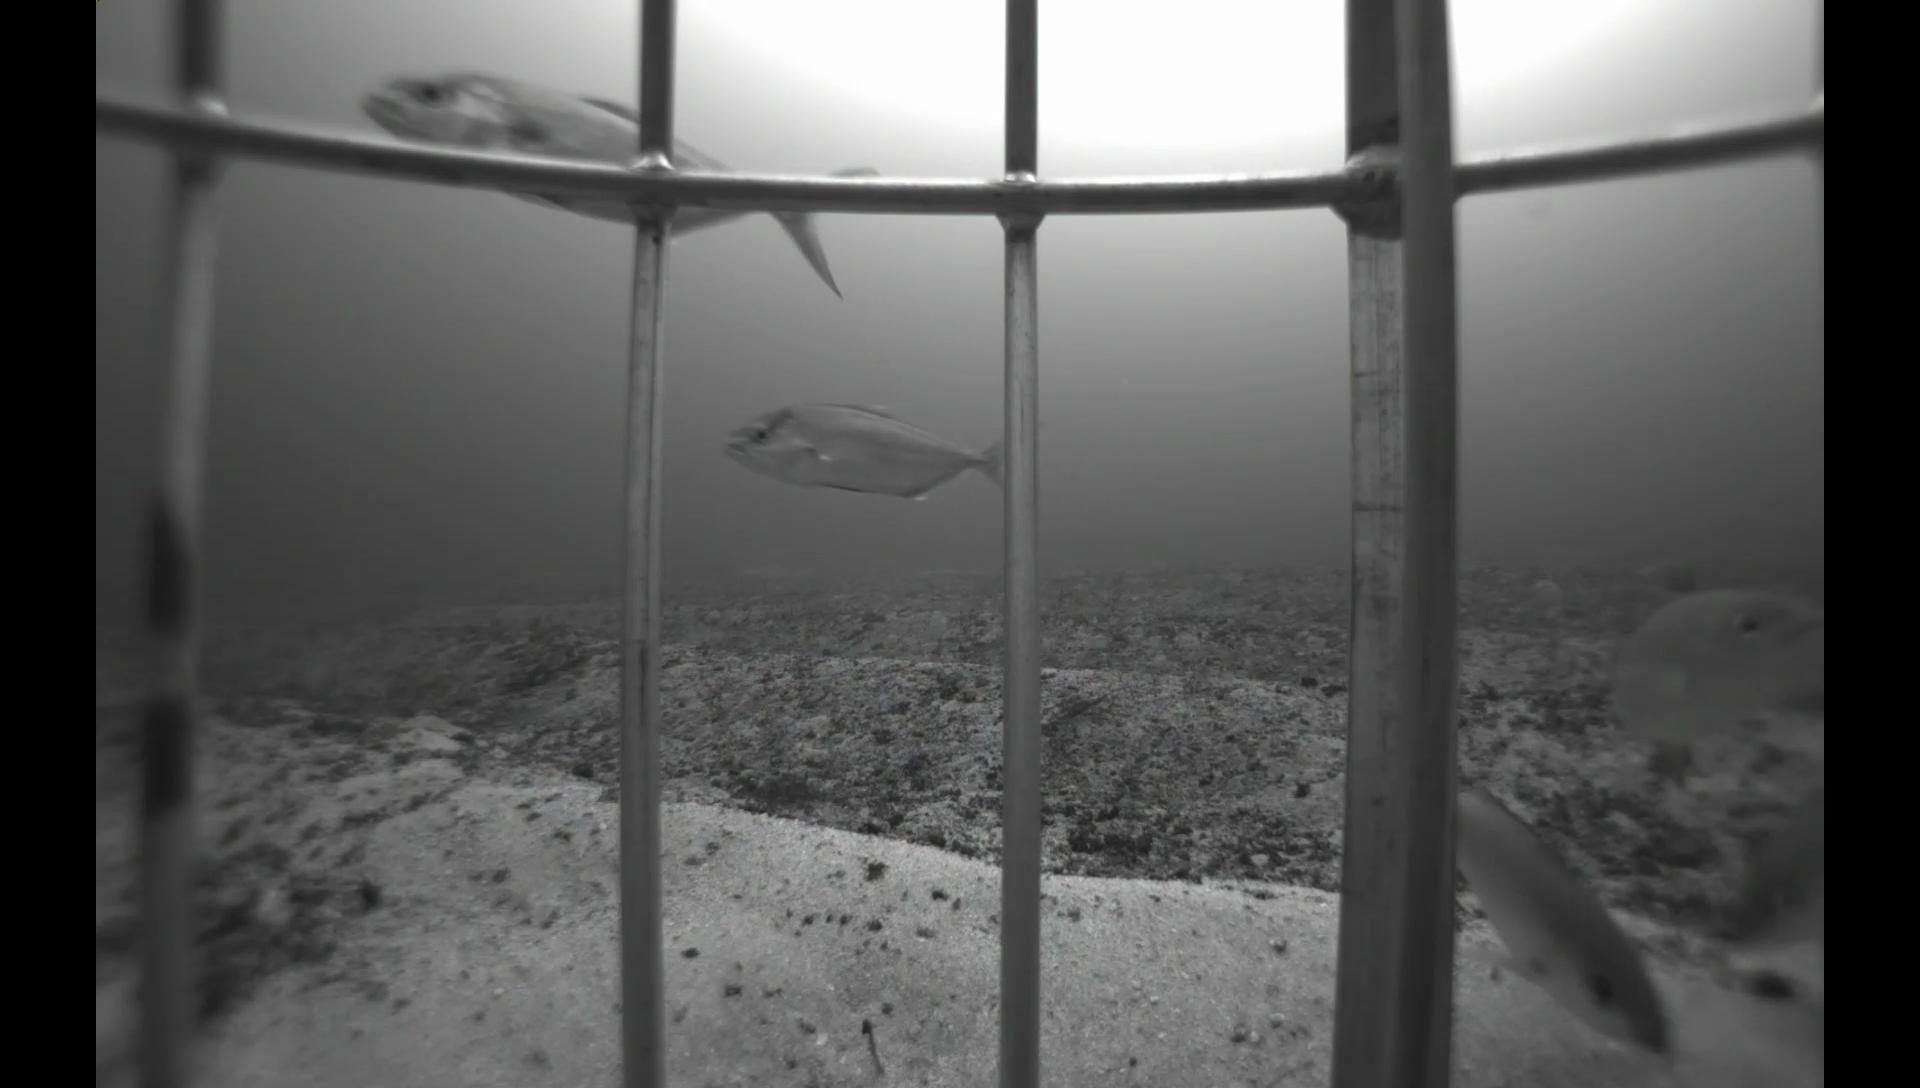RHOMBOPLITESAURORUBENS-170152001: (1447, 764, 1695, 1075), (1590, 582, 1826, 774), (1712, 782, 1822, 950)
SERIOLAFASCIATA-170113103: (352, 63, 901, 324), (702, 389, 1004, 520)
